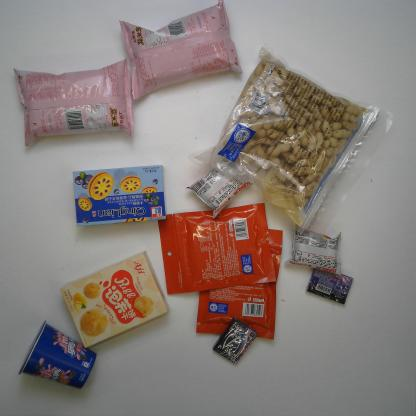Dessert: (59, 250, 171, 350), (17, 318, 98, 390), (72, 164, 166, 226), (185, 157, 254, 219), (282, 224, 343, 278)
Dried Food: (188, 45, 399, 237)
Dried Fruit: (157, 202, 277, 296), (194, 227, 283, 340)
Gum: (212, 316, 258, 366), (306, 267, 354, 305)
Puffed Food: (118, 0, 243, 103), (12, 57, 136, 148)
